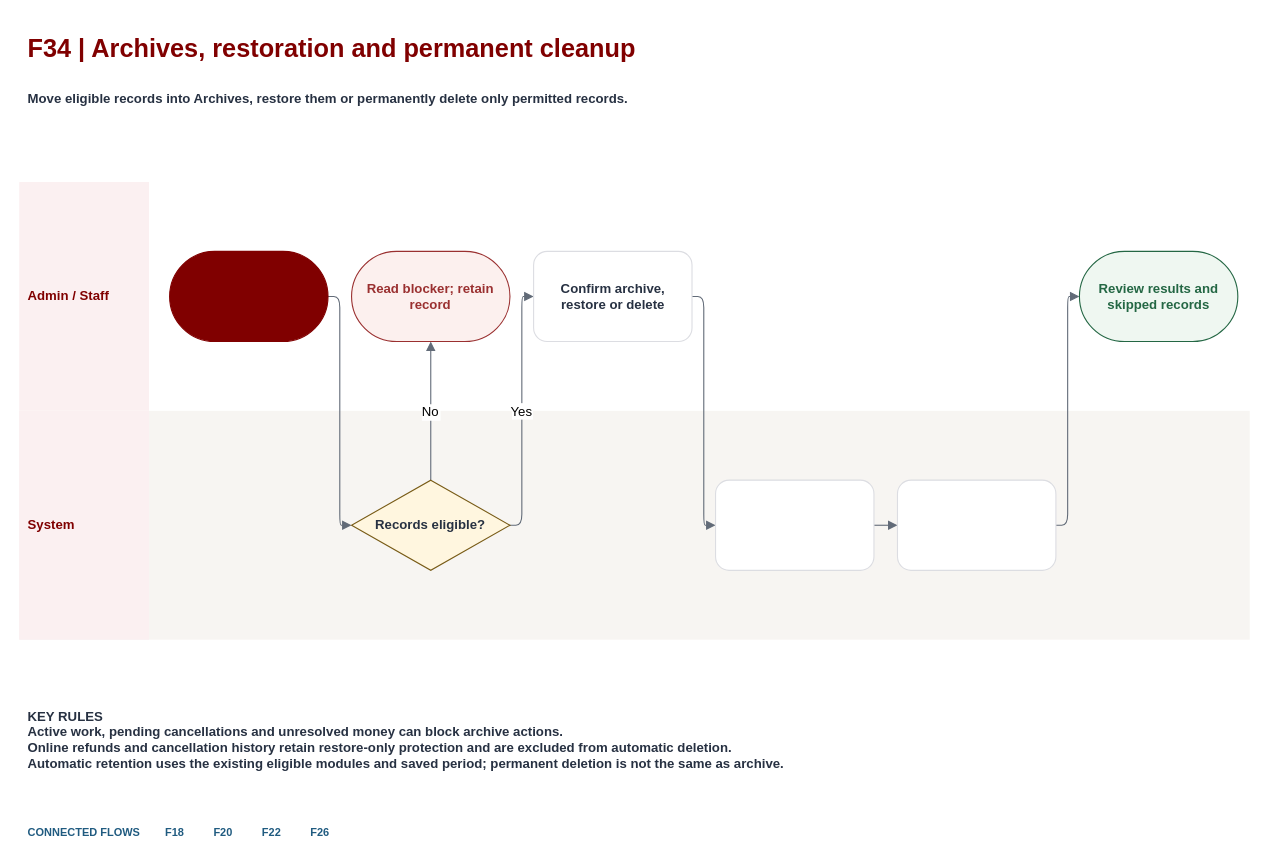
Image size: 1268x860. Some labels were removed from this diagram. Here are the shapes that lost their labels. From the top down, the centre of each, then its label:
At pixel 248 296: "Select records and action".
At pixel 794 524: "Recheck and process eligible rows".
At pixel 976 524: "Preserve protected financial history".
